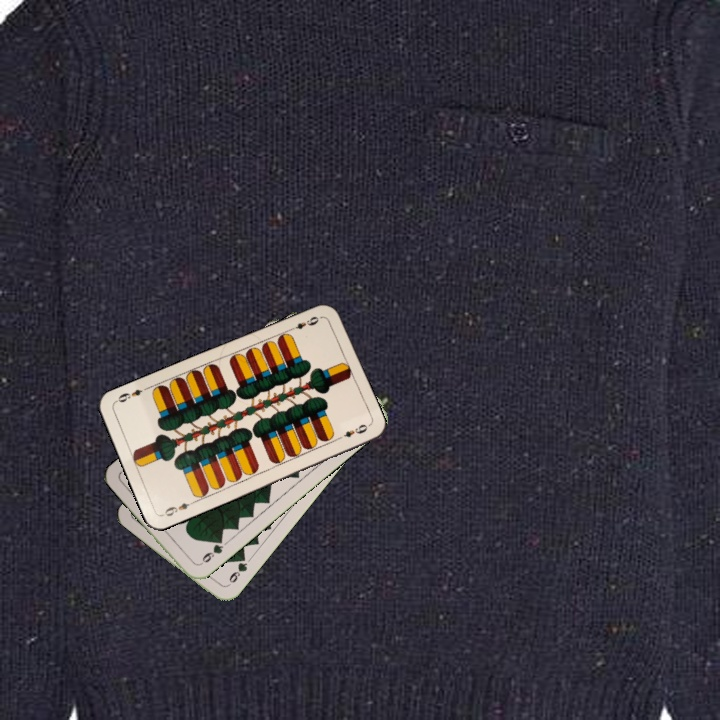E9: (158, 497, 197, 519), (286, 312, 321, 333)
G9: (195, 534, 226, 568), (223, 552, 250, 589)
